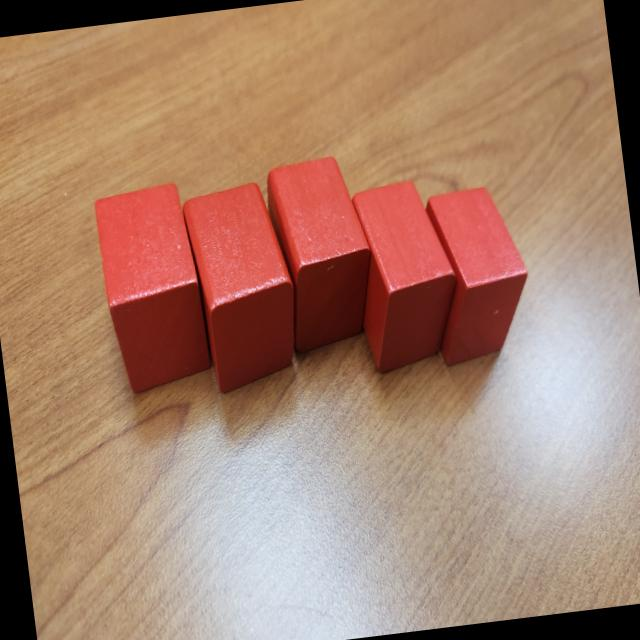red: (182, 178, 306, 394), (92, 182, 217, 396), (260, 152, 382, 357), (344, 175, 466, 378), (422, 182, 538, 368)
